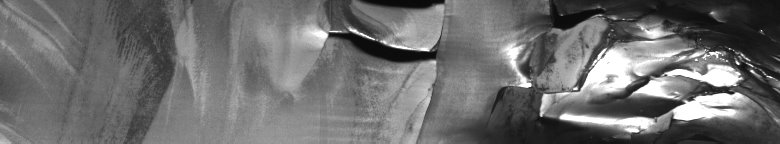ke: (319, 4, 752, 136)
